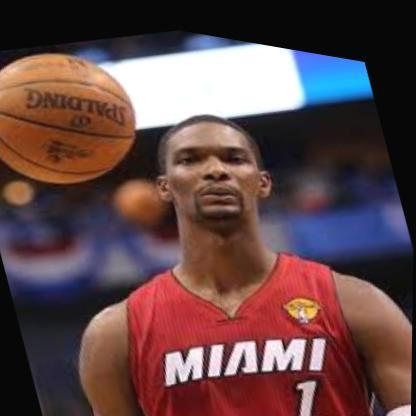basketball: (0, 25, 152, 210)
